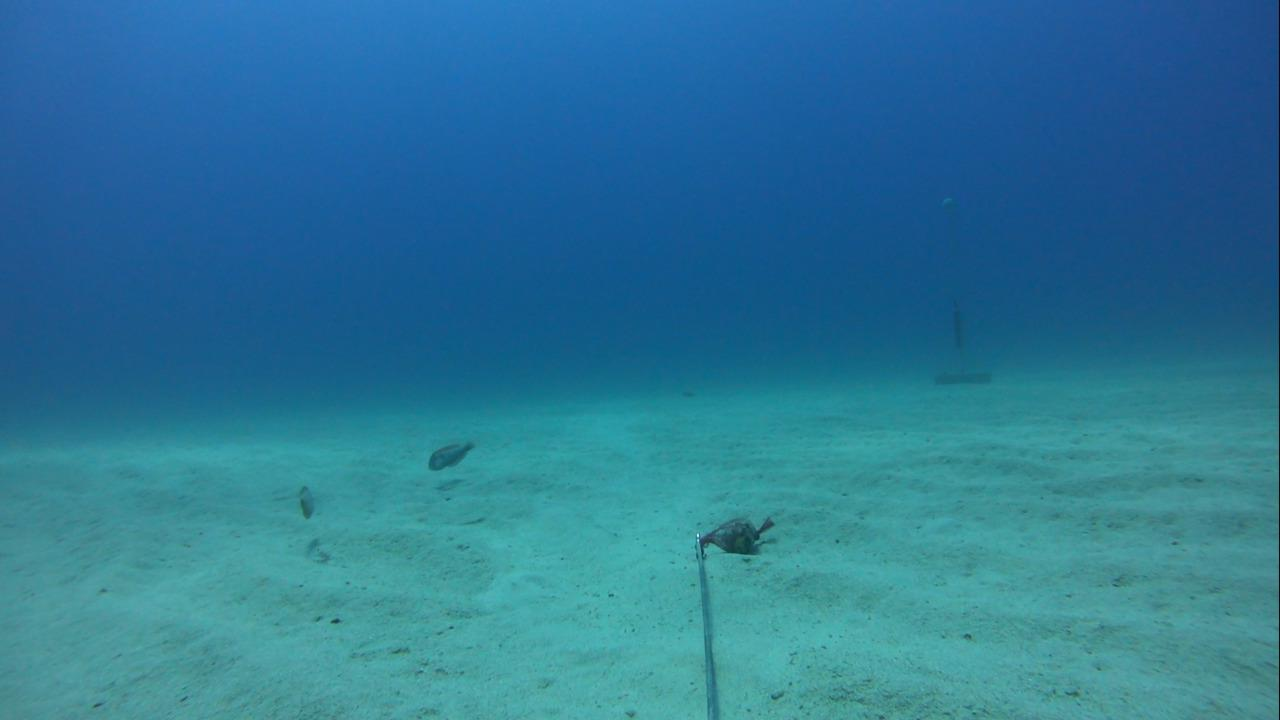raor: (419, 433, 484, 473), (289, 476, 326, 524)
